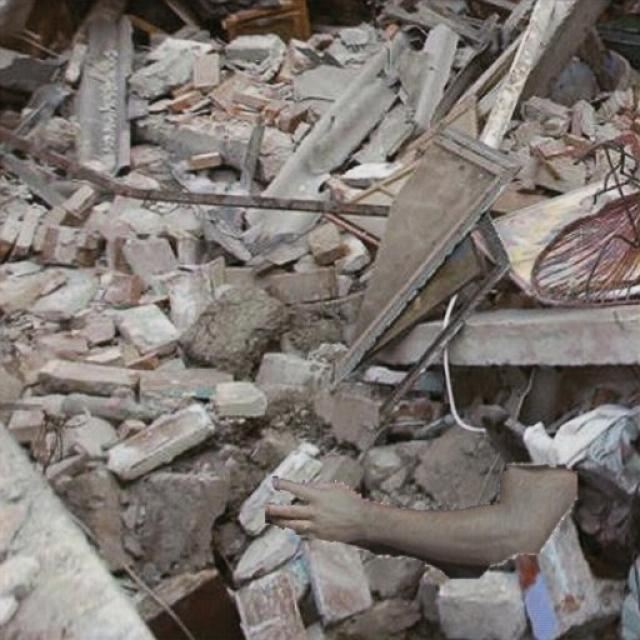Person in Rubble: (265, 462, 576, 578)
